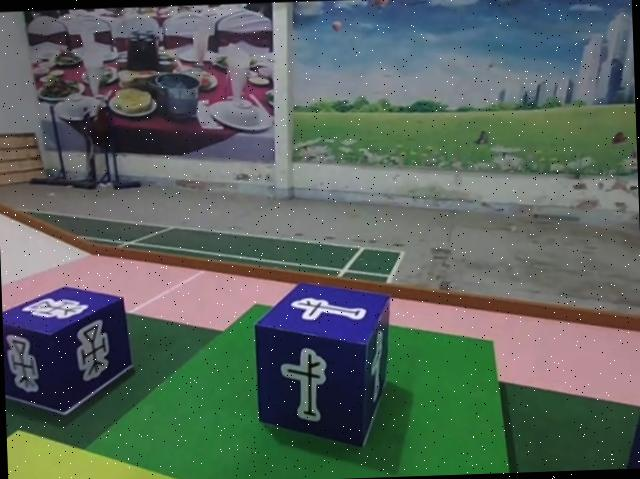R2 Real Blue: (254, 280, 395, 454), (2, 283, 136, 417)
